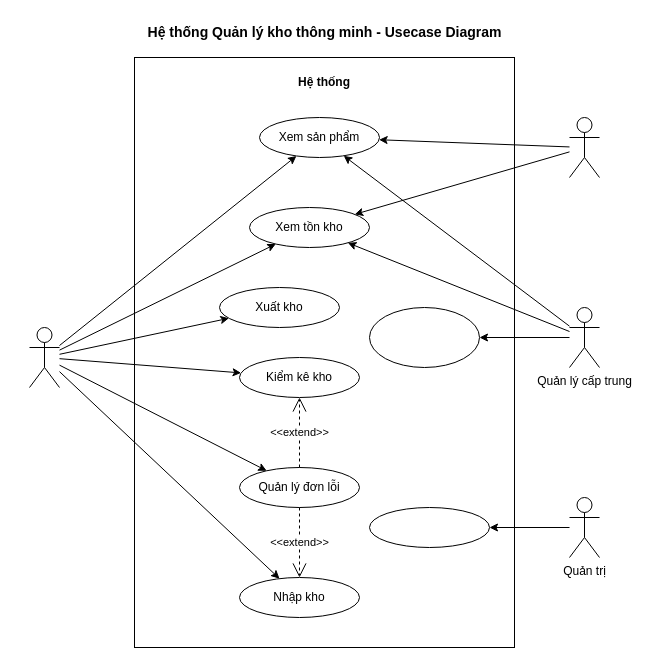
The diagram is 649 pixels wide and 665 high, and some of its shapes have lost their labels. Here are the shapes that lost their labels. From the top down, the box of each, then its label:
(568, 116, 600, 178): Quản lý cấp cao
(28, 326, 60, 388): Nhân viên
(368, 306, 480, 368): Quản lý thông tin chung của kho
(368, 506, 490, 548): Phân quyền
